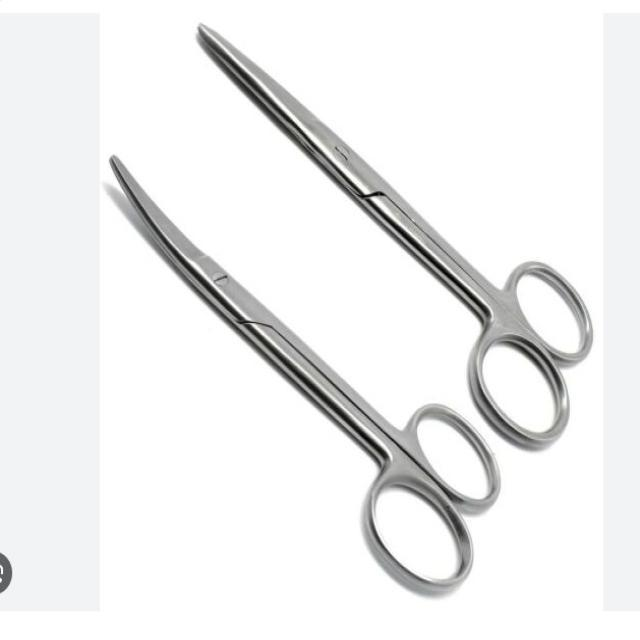Curved Mayo: (105, 137, 505, 610)
Straight Mayo: (190, 9, 597, 457)
